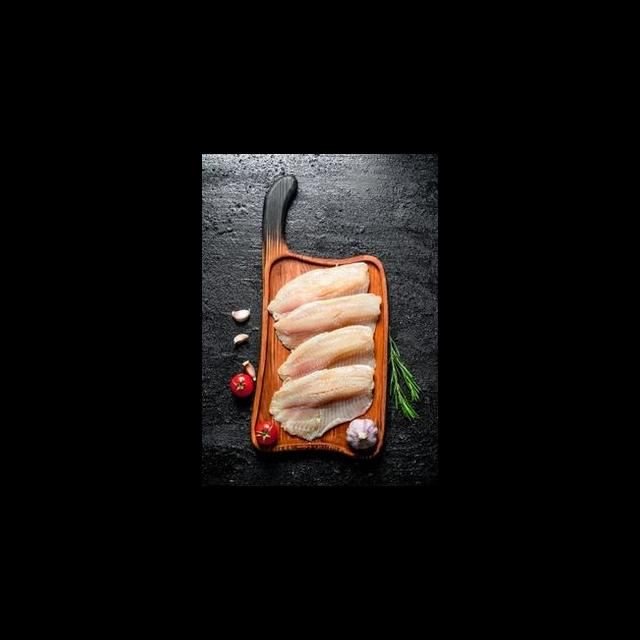fish: (268, 361, 379, 440)
